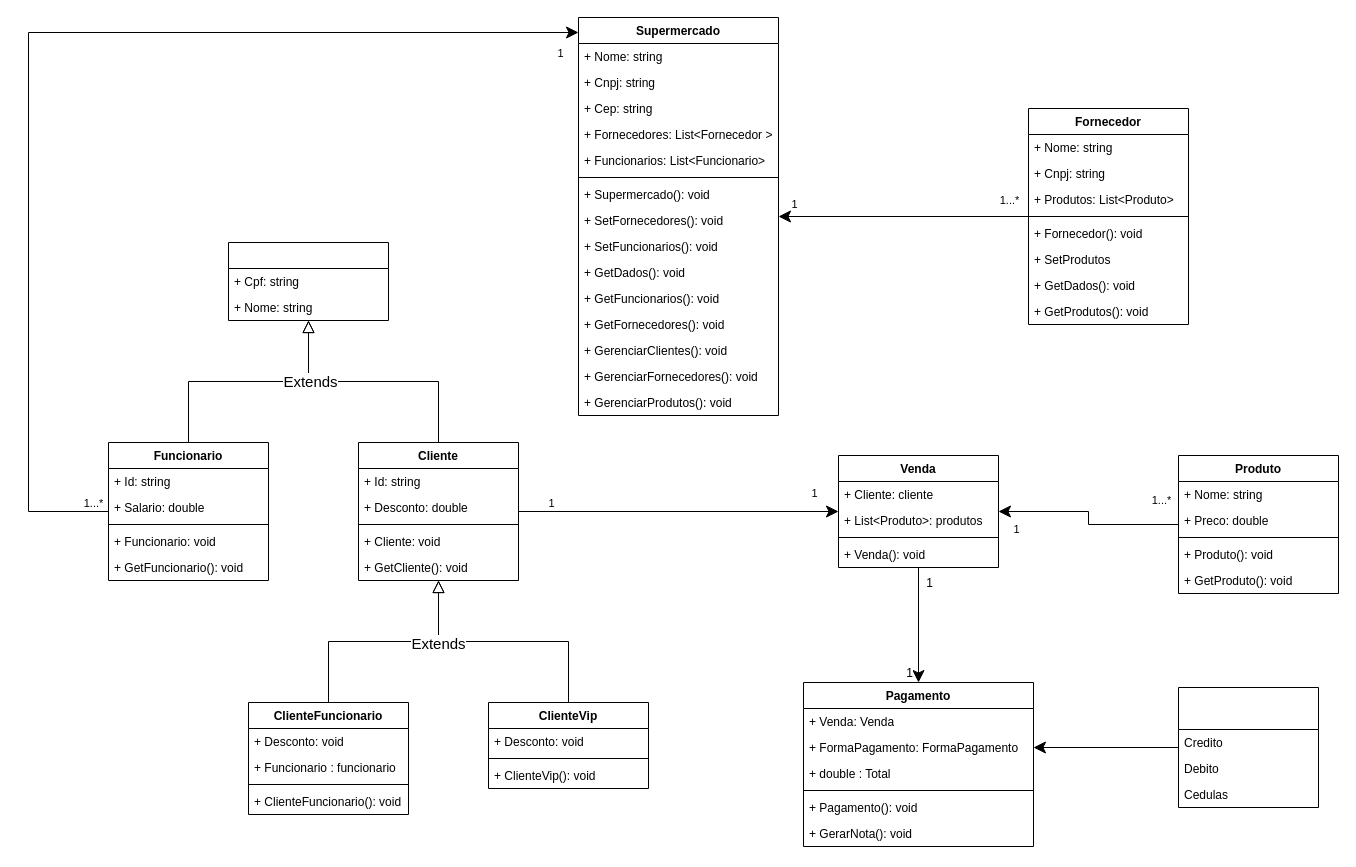
Some shapes in this 1356 by 867 pixel diagram are drawn without their labels. Here are the shapes that lost their labels. From the top down, the box of each, then its label:
(228, 242, 388, 320): Pessoa
(1178, 686, 1318, 808): <<enumeration>> FormaPagamento
